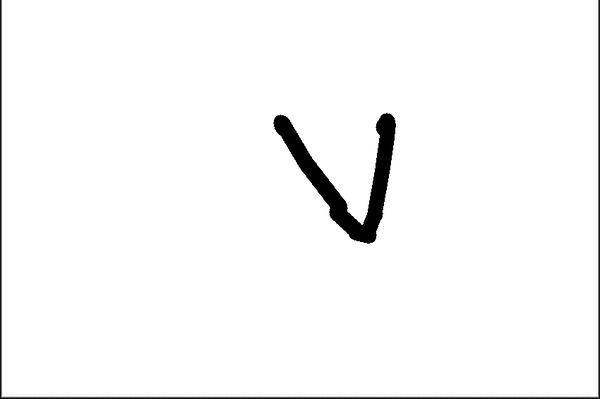V: (264, 95, 415, 261)
